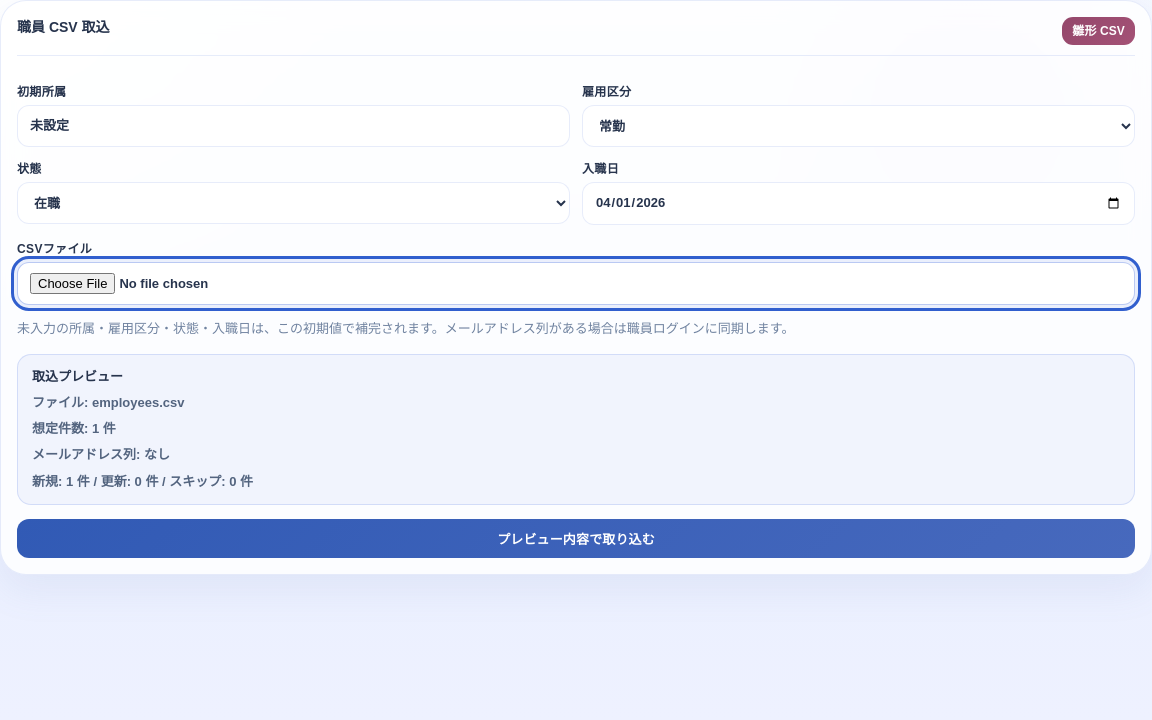
Test: EmployeesSection › 職員CSV取込は確認後にだけ実行される
Earlier steps of the test are not shown.
Later steps or results of the test are not shown.
Check: the text "新規: 1 件 / 更新: 0 件 / スキップ: 0 件" is shown, box top-left (32, 474), bottom-right (253, 489)
Click the button "プレビュー内容で取り込む" at {"x": 576, "y": 538}, box top-left (17, 519), bottom-right (1135, 558)
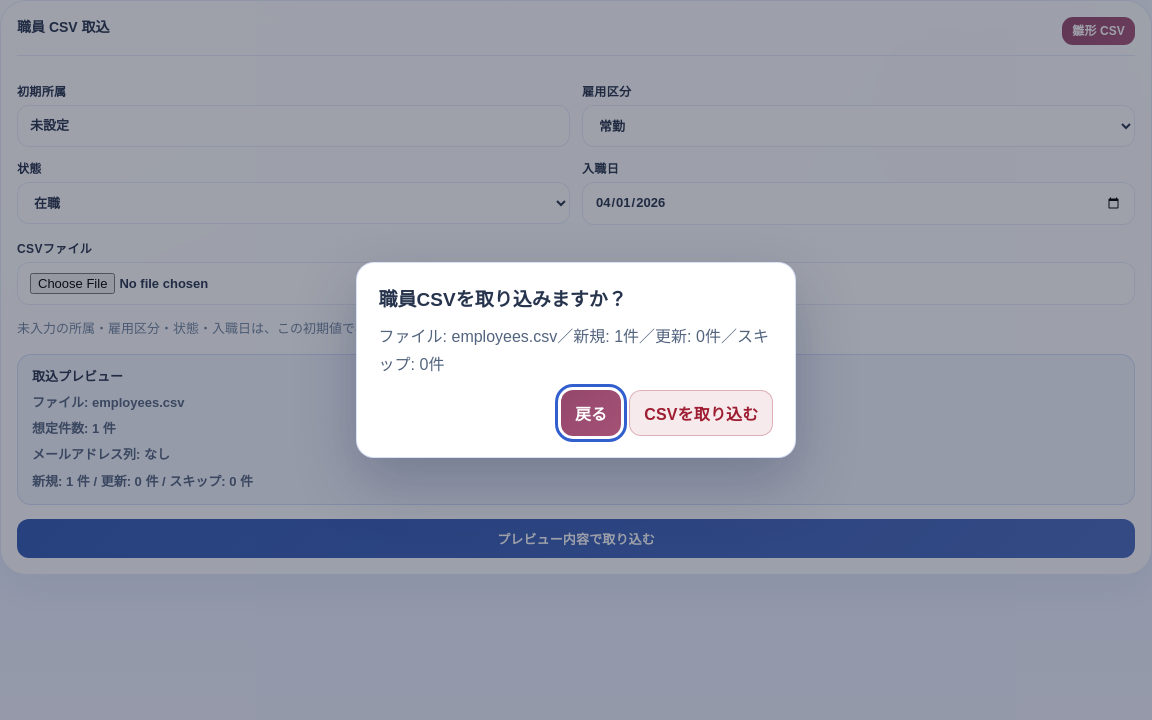
Check: the dialog "職員CSVを取り込みますか？" is shown, box top-left (356, 262), bottom-right (796, 458)
